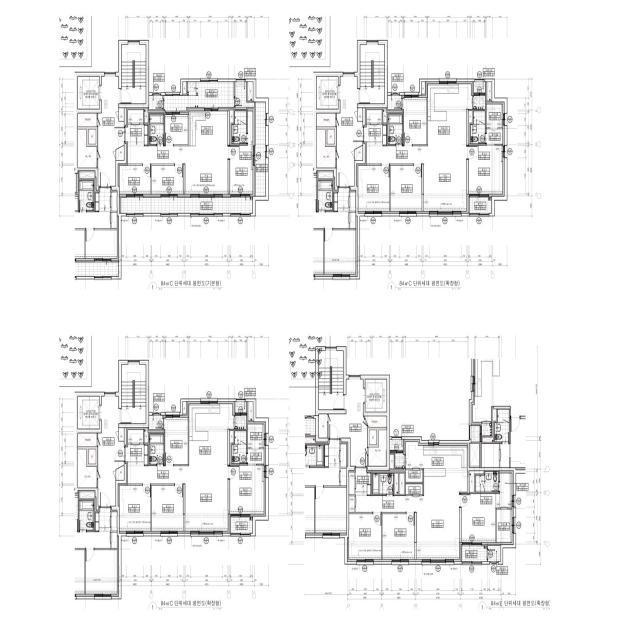space_balconi: (164, 82, 234, 111), (121, 198, 253, 213), (256, 102, 265, 196), (462, 545, 487, 561), (231, 518, 253, 533), (470, 198, 491, 213)
space_bedroom: (230, 111, 253, 194), (461, 494, 496, 542), (230, 465, 264, 514), (468, 145, 502, 194), (382, 514, 415, 559), (119, 485, 151, 531), (349, 514, 381, 559), (358, 166, 390, 211), (152, 486, 183, 531), (391, 166, 422, 211), (165, 418, 188, 464), (404, 98, 427, 144), (119, 166, 151, 194), (152, 166, 183, 194), (165, 115, 188, 145)
space_dressroom: (496, 473, 512, 542), (248, 424, 264, 464), (487, 104, 503, 144)
space_elevator: (365, 379, 387, 412), (78, 397, 99, 429), (78, 77, 99, 109), (317, 77, 338, 109)
space_elevator_hall: (328, 380, 367, 466), (98, 76, 124, 186), (98, 397, 124, 506), (337, 77, 363, 186)
space_front: (125, 444, 148, 466), (125, 125, 148, 146), (364, 125, 387, 146), (356, 468, 371, 495)
space_kitchen: (428, 84, 473, 146), (189, 404, 234, 465), (406, 442, 467, 468), (189, 111, 228, 146)
space_living_room: (356, 468, 467, 559), (128, 466, 228, 531), (367, 147, 467, 211), (128, 146, 228, 194)
space_other: (78, 449, 97, 488), (78, 130, 97, 168), (317, 129, 335, 168), (368, 430, 387, 466), (469, 471, 484, 492), (78, 433, 97, 446), (78, 114, 97, 127), (365, 416, 387, 427), (317, 113, 335, 126), (406, 470, 423, 482), (149, 415, 163, 429), (128, 430, 143, 443), (128, 110, 143, 123), (367, 110, 382, 123), (319, 414, 327, 438), (149, 96, 163, 109), (488, 546, 500, 561), (406, 484, 423, 494), (388, 96, 401, 109), (395, 453, 405, 468), (235, 416, 246, 429), (474, 96, 485, 109), (349, 472, 355, 495), (230, 431, 234, 464), (230, 111, 234, 144), (468, 111, 472, 144), (369, 430, 377, 445), (88, 129, 96, 144), (116, 146, 124, 160), (116, 466, 124, 480), (327, 130, 335, 144), (355, 146, 363, 160), (89, 449, 96, 464), (399, 473, 404, 494), (349, 496, 355, 512), (248, 82, 253, 101), (394, 473, 398, 494), (488, 82, 492, 101), (249, 402, 253, 420), (119, 428, 124, 441), (119, 108, 124, 121), (358, 108, 363, 121), (390, 455, 394, 469), (144, 429, 148, 443), (144, 109, 148, 123), (383, 109, 387, 123), (183, 402, 186, 414), (422, 82, 425, 94), (183, 82, 186, 94)
space_outdoor_room: (235, 82, 254, 107), (390, 440, 403, 450), (235, 402, 246, 413), (474, 82, 485, 93)
space_staircase: (121, 45, 146, 104), (121, 365, 146, 423), (319, 351, 343, 410), (360, 45, 384, 103)
space_toilet: (372, 473, 394, 494), (232, 431, 246, 464), (471, 111, 485, 144), (232, 111, 246, 144), (149, 434, 164, 464), (476, 472, 498, 492), (150, 114, 164, 144), (388, 114, 402, 144)
